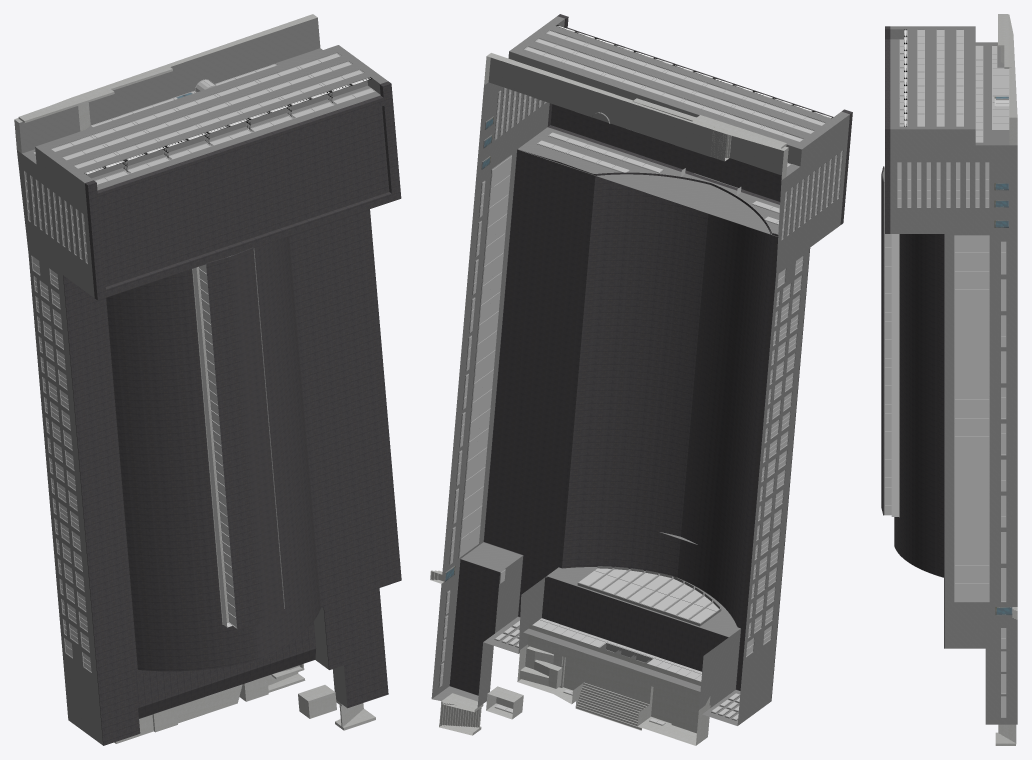
File: Aia_18.obj
The picture shows the model from 3 angles, left to right: view 1: azimuth 30°, elevation 25°; view 2: azimuth 150°, elevation 25°; view 3: azimuth 270°, elevation 25°; orthographic projection. The views are drawn at different scales.
Parts seen in each view (by area): view 1: Aia_18; view 2: Aia_18; view 3: Aia_18.
Part boxes in pixels (bbox=[...]): Aia_18: bbox=[14, 14, 401, 745]; Aia_18: bbox=[430, 14, 852, 745]; Aia_18: bbox=[881, 14, 1017, 745].
Bounding box in the file's own units: 54.97 × 103 × 20.92.
